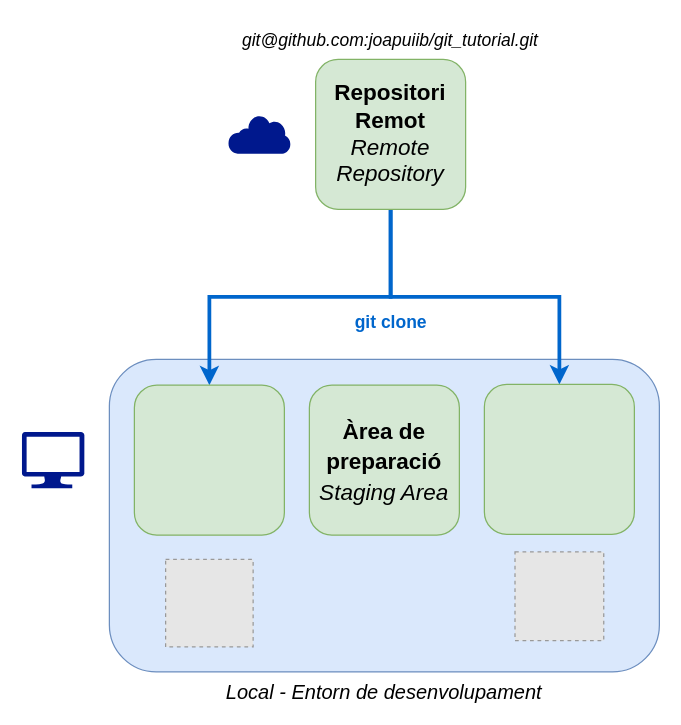
Image size: 681x725. Some labels were removed from this diagram. Grey dashed boxes stand in for pictures. Here are the shapes that lost their labels. From the top down, the centre of each, then its label:
the point at 208,459: Directori de treball Working directory
the point at 558,458: Repositori local Local Repository
